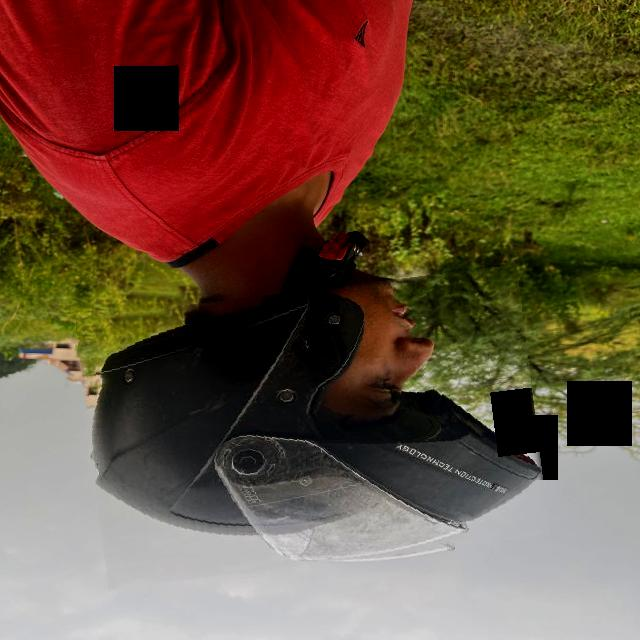helmet: (83, 278, 542, 577)
